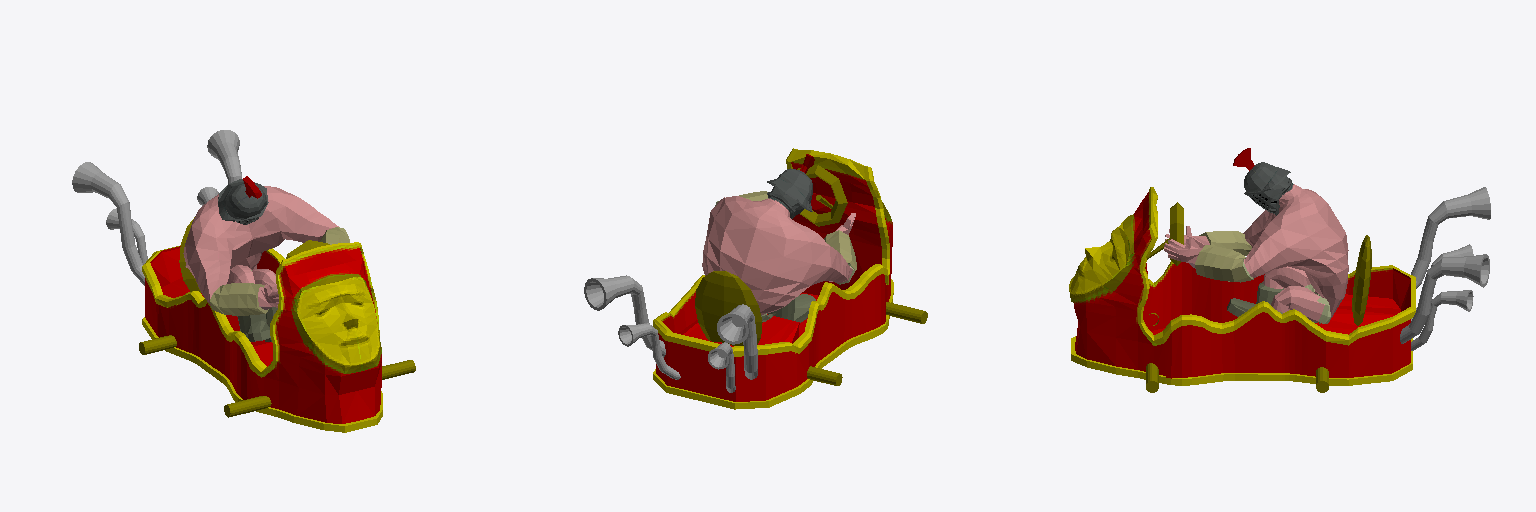
3 views of the same model, side by side, from view 1: azimuth 30°, elevation 25°; view 2: azimuth 150°, elevation 25°; view 3: azimuth 270°, elevation 25° (orthographic).
Parts seen in each view (by area): view 1: GladiChasis_GladiChasisH, Gadiador_Gladiador_H, GladiTubos_GladiTubosH, GladiVolante_GladiVolanteH; view 2: GladiChasis_GladiChasisH, Gadiador_Gladiador_H, GladiTubos_GladiTubosH, GladiVolante_GladiVolanteH; view 3: GladiChasis_GladiChasisH, Gadiador_Gladiador_H, GladiTubos_GladiTubosH, GladiVolante_GladiVolanteH.
Part boxes in pixels (x1,y1,x2,y2): GladiChasis_GladiChasisH: (142,242,382,432); Gadiador_Gladiador_H: (183,176,349,341); GladiTubos_GladiTubosH: (72,130,241,285); GladiVolante_GladiVolanteH: (139,217,415,417); GladiChasis_GladiChasisH: (653,148,893,409); Gadiador_Gladiador_H: (702,154,856,322); GladiTubos_GladiTubosH: (584,275,757,392); GladiVolante_GladiVolanteH: (695,165,927,385); GladiChasis_GladiChasisH: (1069,187,1415,385); Gadiador_Gladiador_H: (1164,148,1348,323); GladiTubos_GladiTubosH: (1400,187,1490,350); GladiVolante_GladiVolanteH: (1146,202,1371,392).
Size of the model in its own units: 5.46 by 5.44 by 10.78.
Materials: 4 (3 with a texture image).